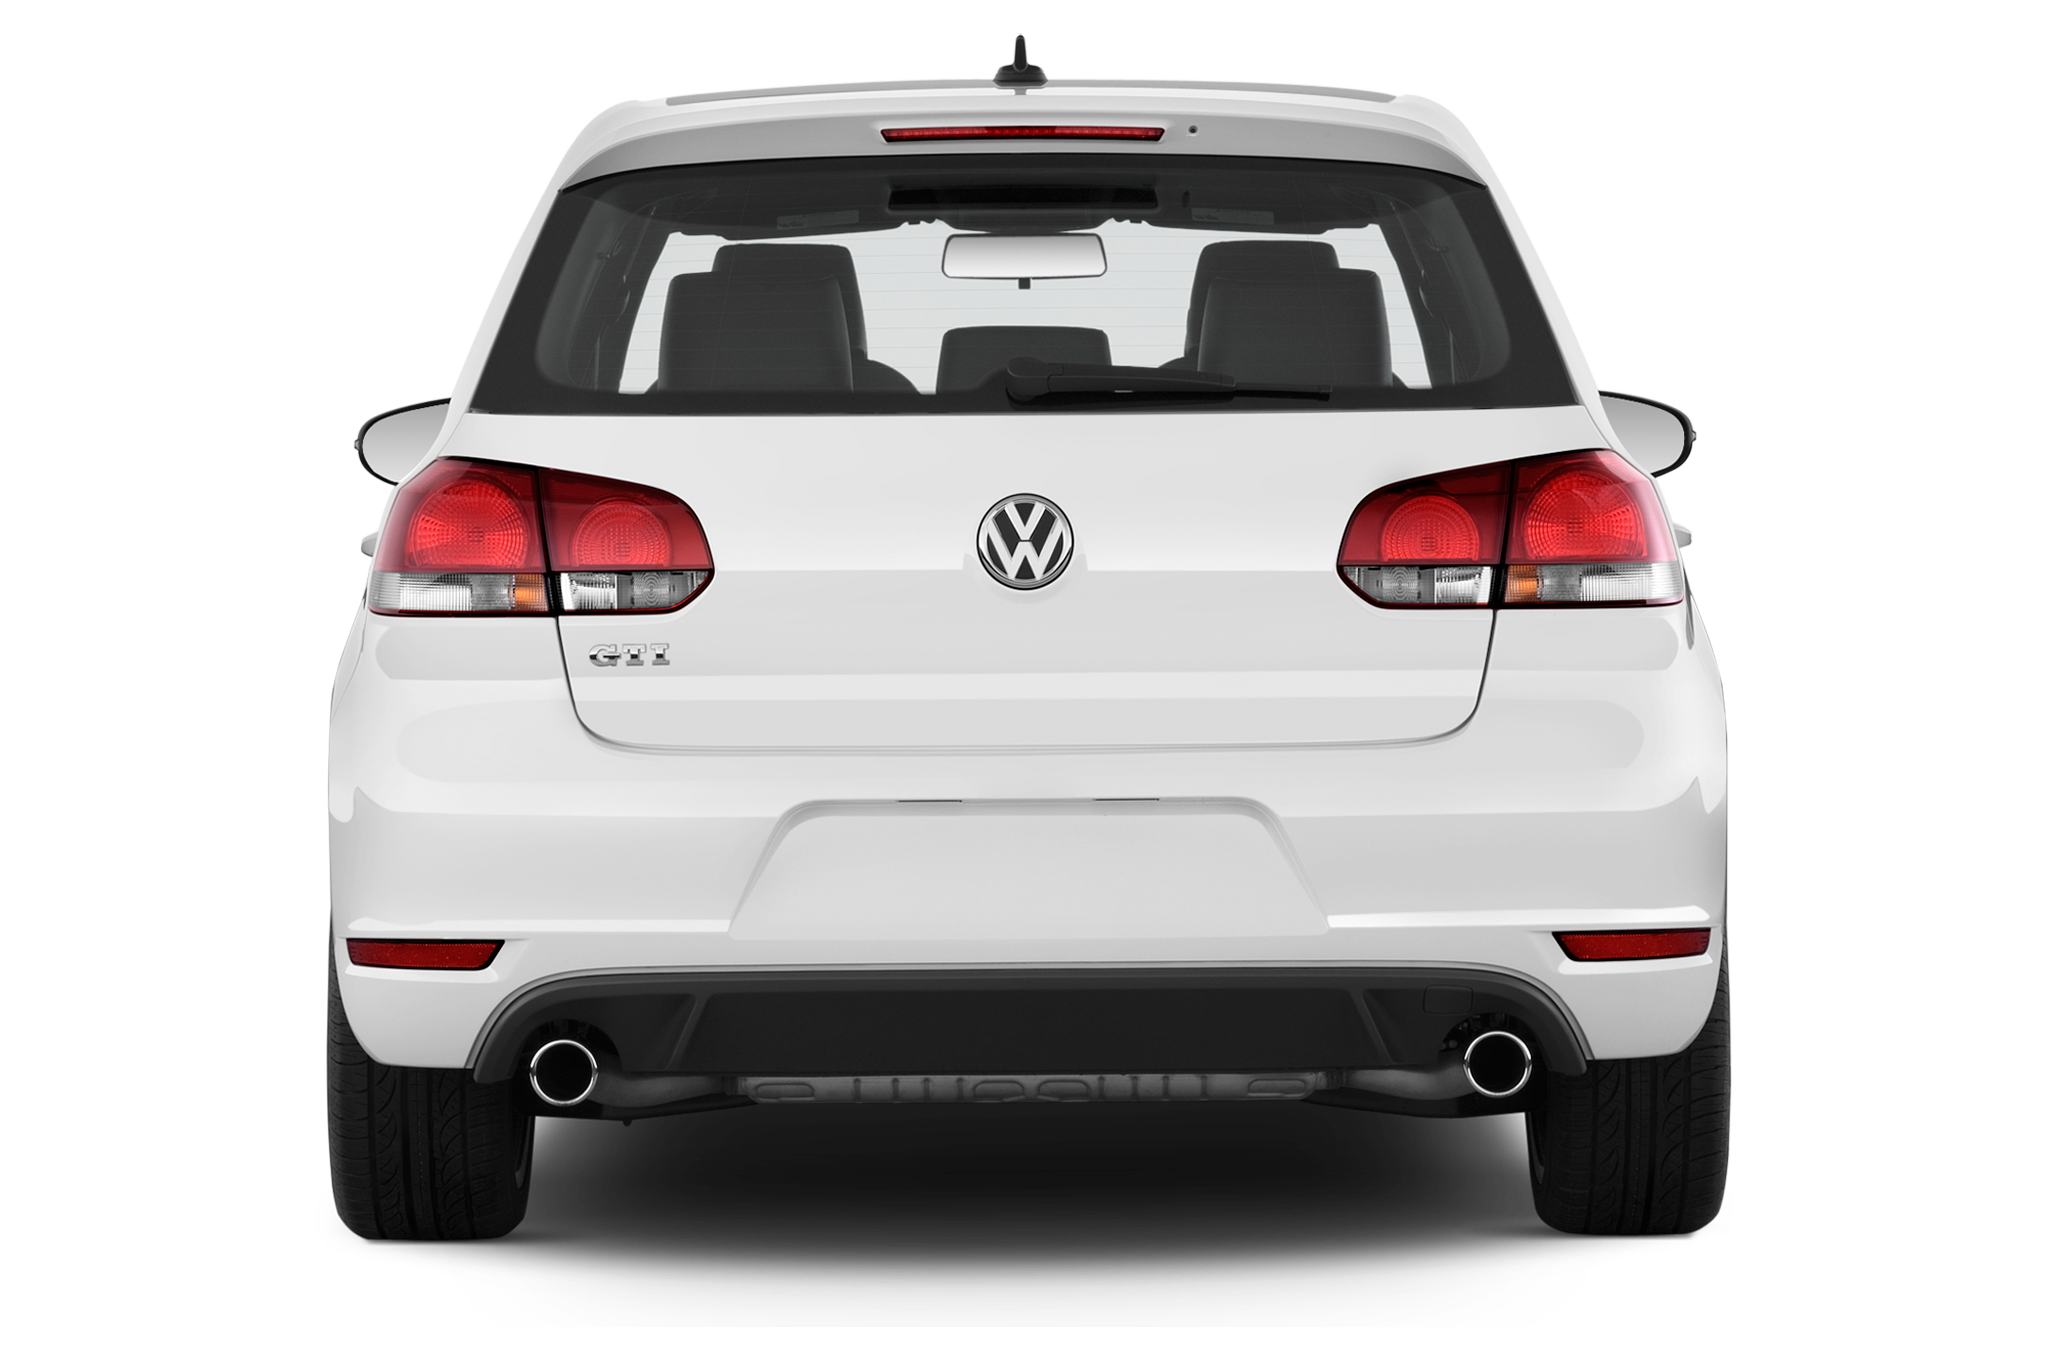P1_: (1262, 810, 1279, 831)
bbox: (789, 810, 1261, 948)
